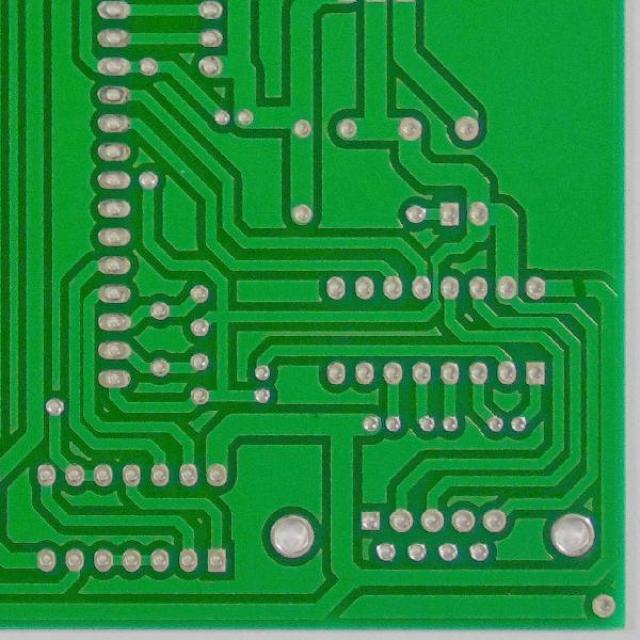Open_Circuit: (563, 267, 594, 302)
